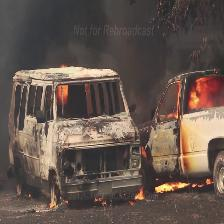fire: (54, 53, 224, 213)
